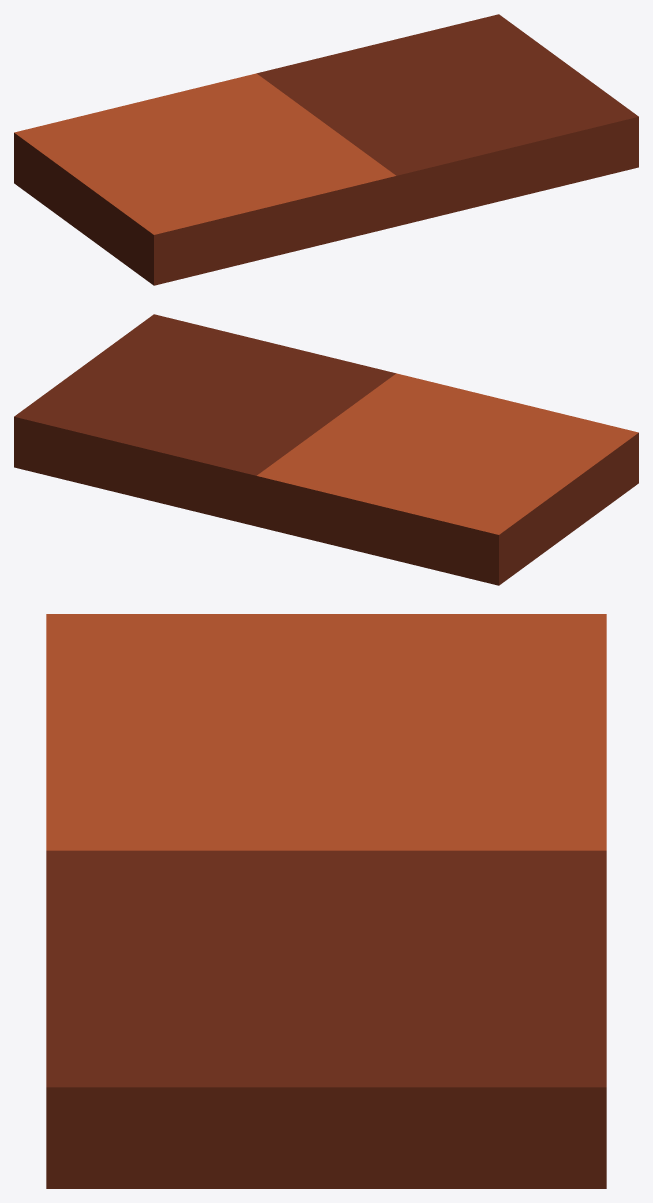
File: Cosmic_retro_station_floor_tile_border_03.fbx
The picture shows the model from 3 angles, top to bottom: view 1: azimuth 30°, elevation 25°; view 2: azimuth 150°, elevation 25°; view 3: azimuth 270°, elevation 25°; orthographic projection. The views are drawn at different scales.
Parts seen in each view (by area): view 1: Cosmic_retro_station_floor_tile_border_03; view 2: Cosmic_retro_station_floor_tile_border_03; view 3: Cosmic_retro_station_floor_tile_border_03.
Boxes of the visible parts, x1,y1,x2,y2 form: Cosmic_retro_station_floor_tile_border_03: [14, 14, 638, 285]; Cosmic_retro_station_floor_tile_border_03: [14, 314, 638, 585]; Cosmic_retro_station_floor_tile_border_03: [46, 614, 606, 1188].
Bounding box in the file's own units: 1 × 0.1 × 0.5.
